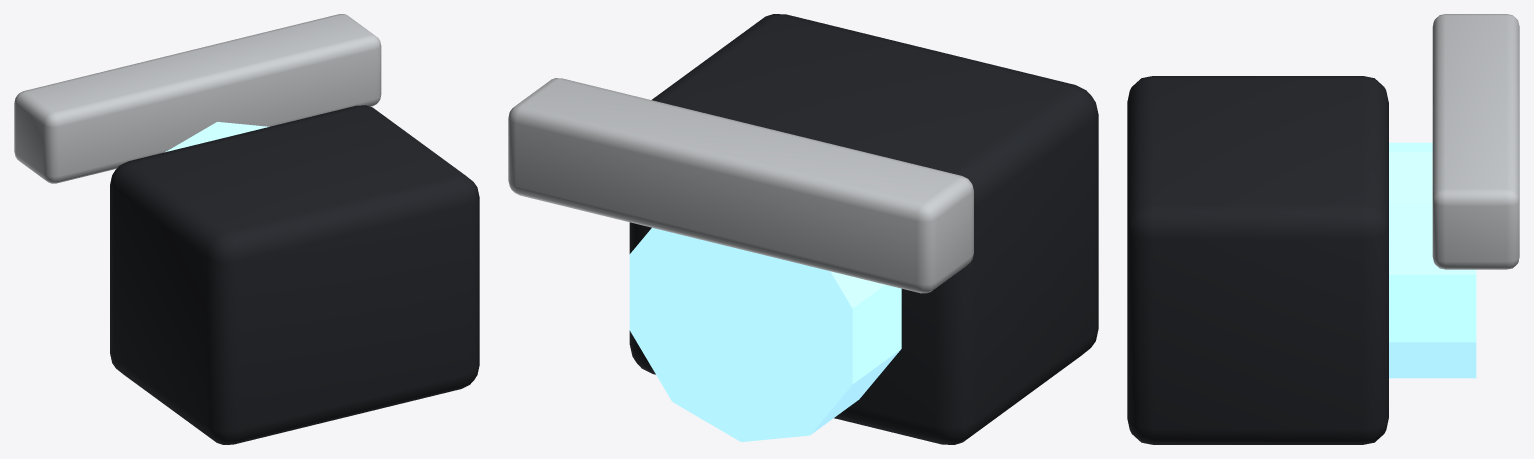
Rendered from service_light_pod.glb.
3 renders of one model, left to right at view 1: azimuth 30°, elevation 25°; view 2: azimuth 150°, elevation 25°; view 3: azimuth 270°, elevation 25°, orthographic. The views are drawn at different scales.
Visible parts, largest first — view 1: PodBody, PodGuard, PodLens; view 2: PodBody, PodGuard, PodLens; view 3: PodBody, PodGuard, PodLens.
Boxes of the visible parts, bbox=[...] form: PodBody: bbox=[110, 105, 479, 444]; PodGuard: bbox=[14, 14, 381, 183]; PodLens: bbox=[164, 122, 269, 152]; PodBody: bbox=[629, 14, 1098, 444]; PodGuard: bbox=[508, 78, 973, 293]; PodLens: bbox=[629, 228, 901, 441]; PodBody: bbox=[1127, 76, 1388, 444]; PodGuard: bbox=[1432, 14, 1519, 269]; PodLens: bbox=[1389, 142, 1476, 378].
Size of the model in its own units: 0.2 by 0.14 by 0.18.
